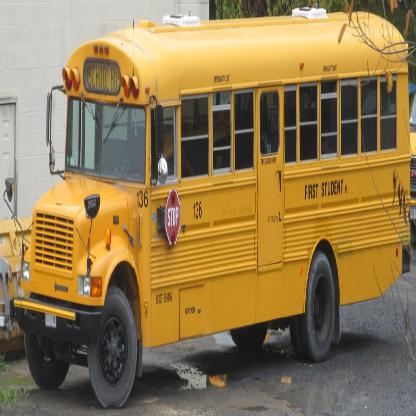Bus: (3, 3, 410, 407), (408, 90, 416, 218)
